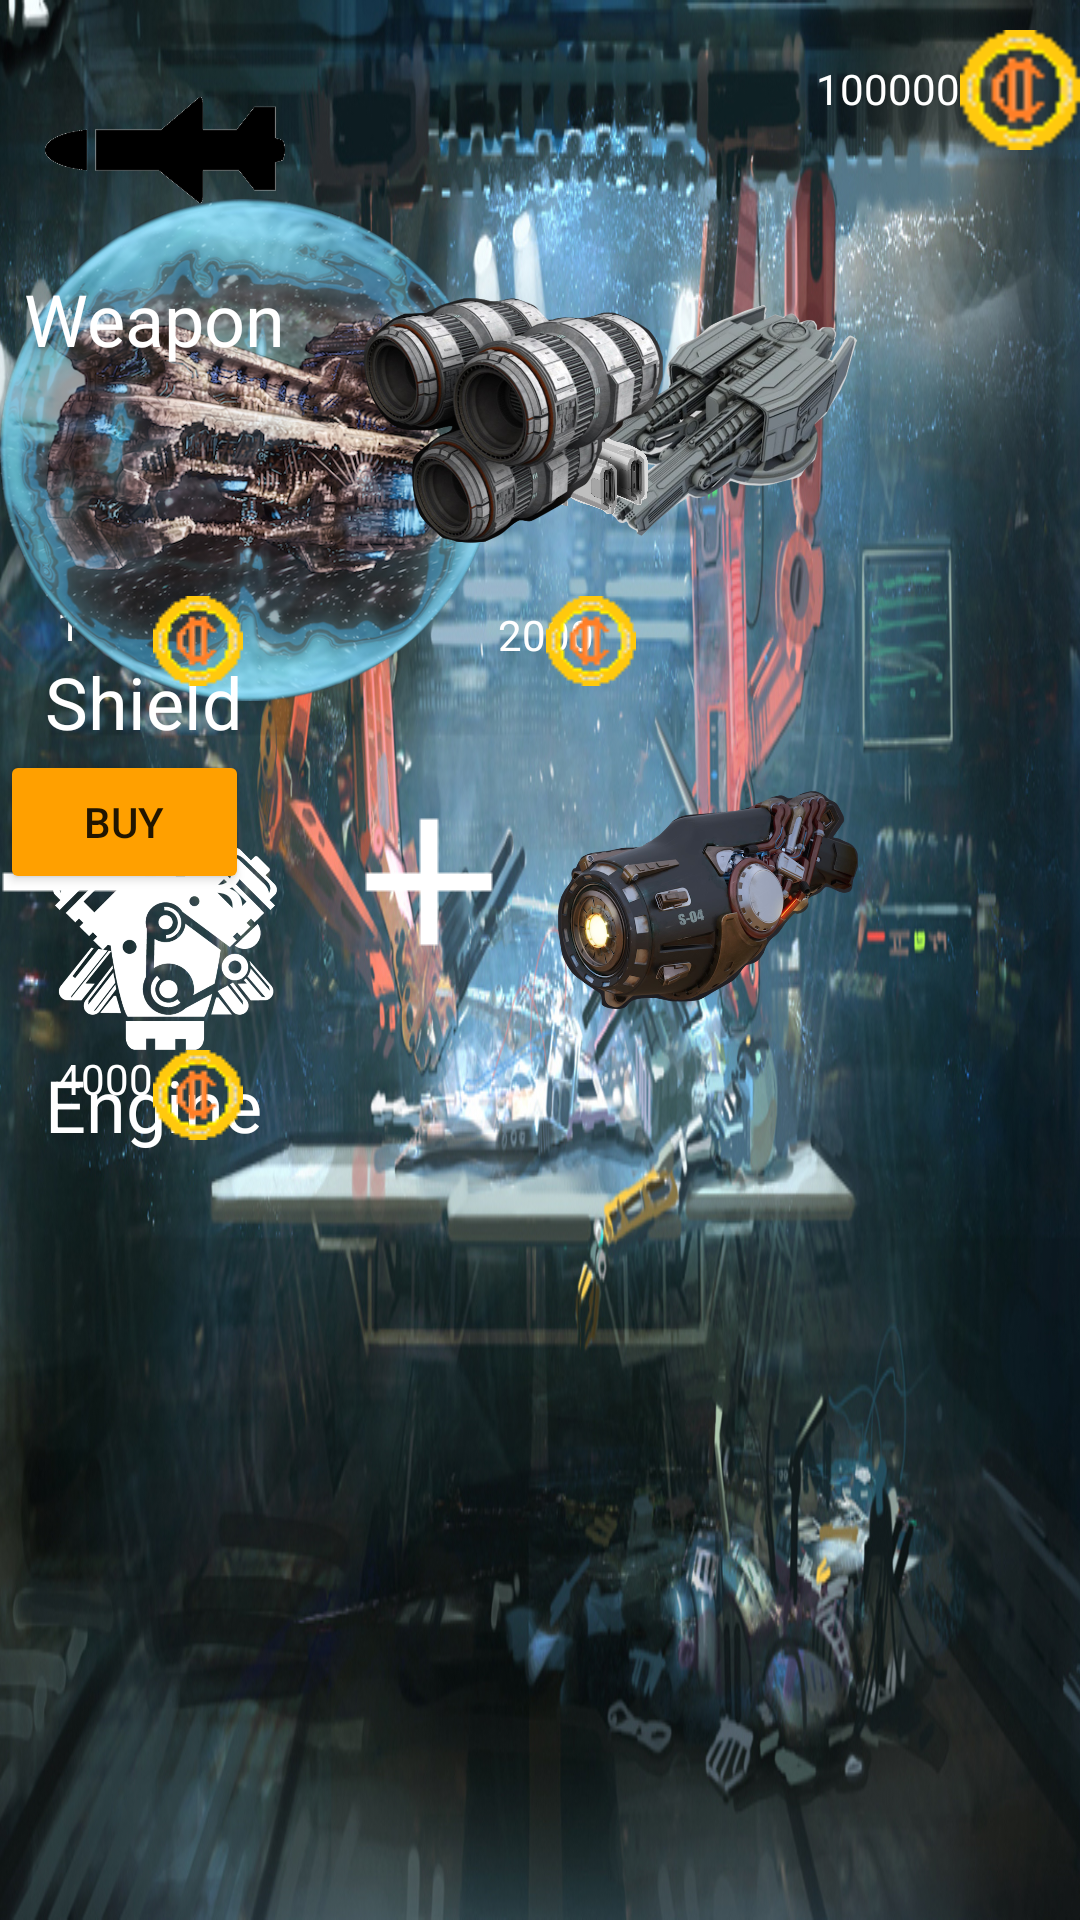

Icon click points for this 1080px×1920px phone screenshot, format point (x, y):
add: point (430, 883)
